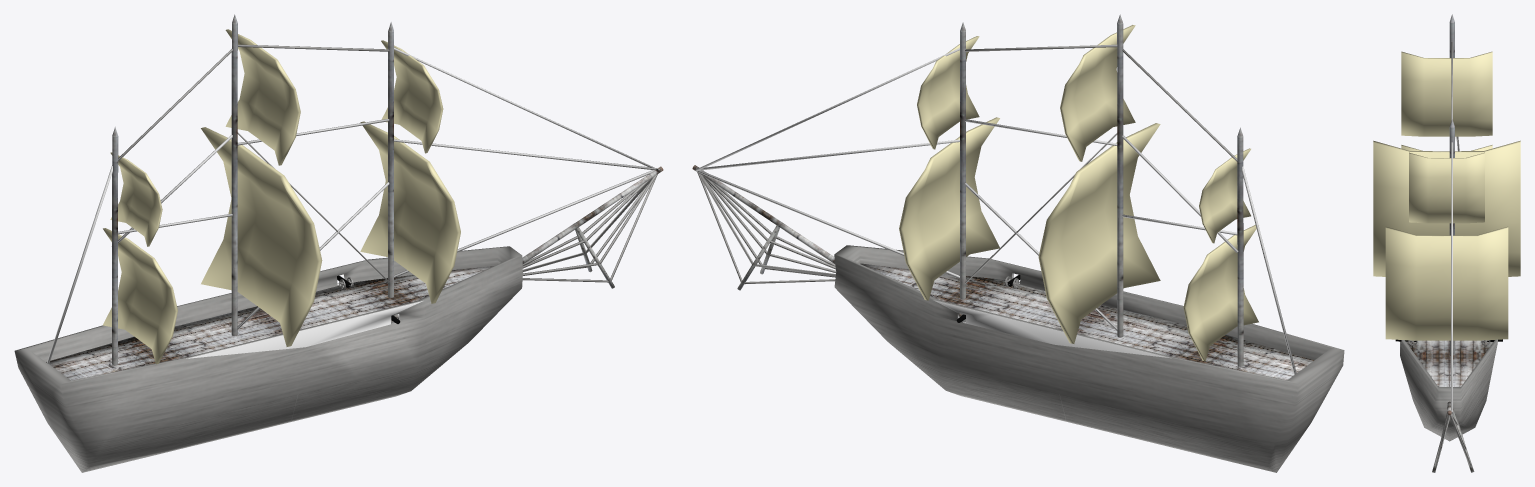
Rendered from chromeship.obj.
The picture shows the model from 3 angles, left to right: view 1: azimuth 30°, elevation 25°; view 2: azimuth 150°, elevation 25°; view 3: azimuth 270°, elevation 25°; orthographic projection. The views are drawn at different scales.
Parts seen in each view (by area): view 1: Cube.002_Mesh.001; view 2: Cube.002_Mesh.001; view 3: Cube.002_Mesh.001.
Boxes of the visible parts, <box> form: Cube.002_Mesh.001: <box>14,14,663,472</box>; Cube.002_Mesh.001: <box>692,14,1344,472</box>; Cube.002_Mesh.001: <box>1373,14,1520,472</box>.
Bounding box in the file's own units: 15.68 × 10.07 × 3.74.
1 material, 1 textured.
